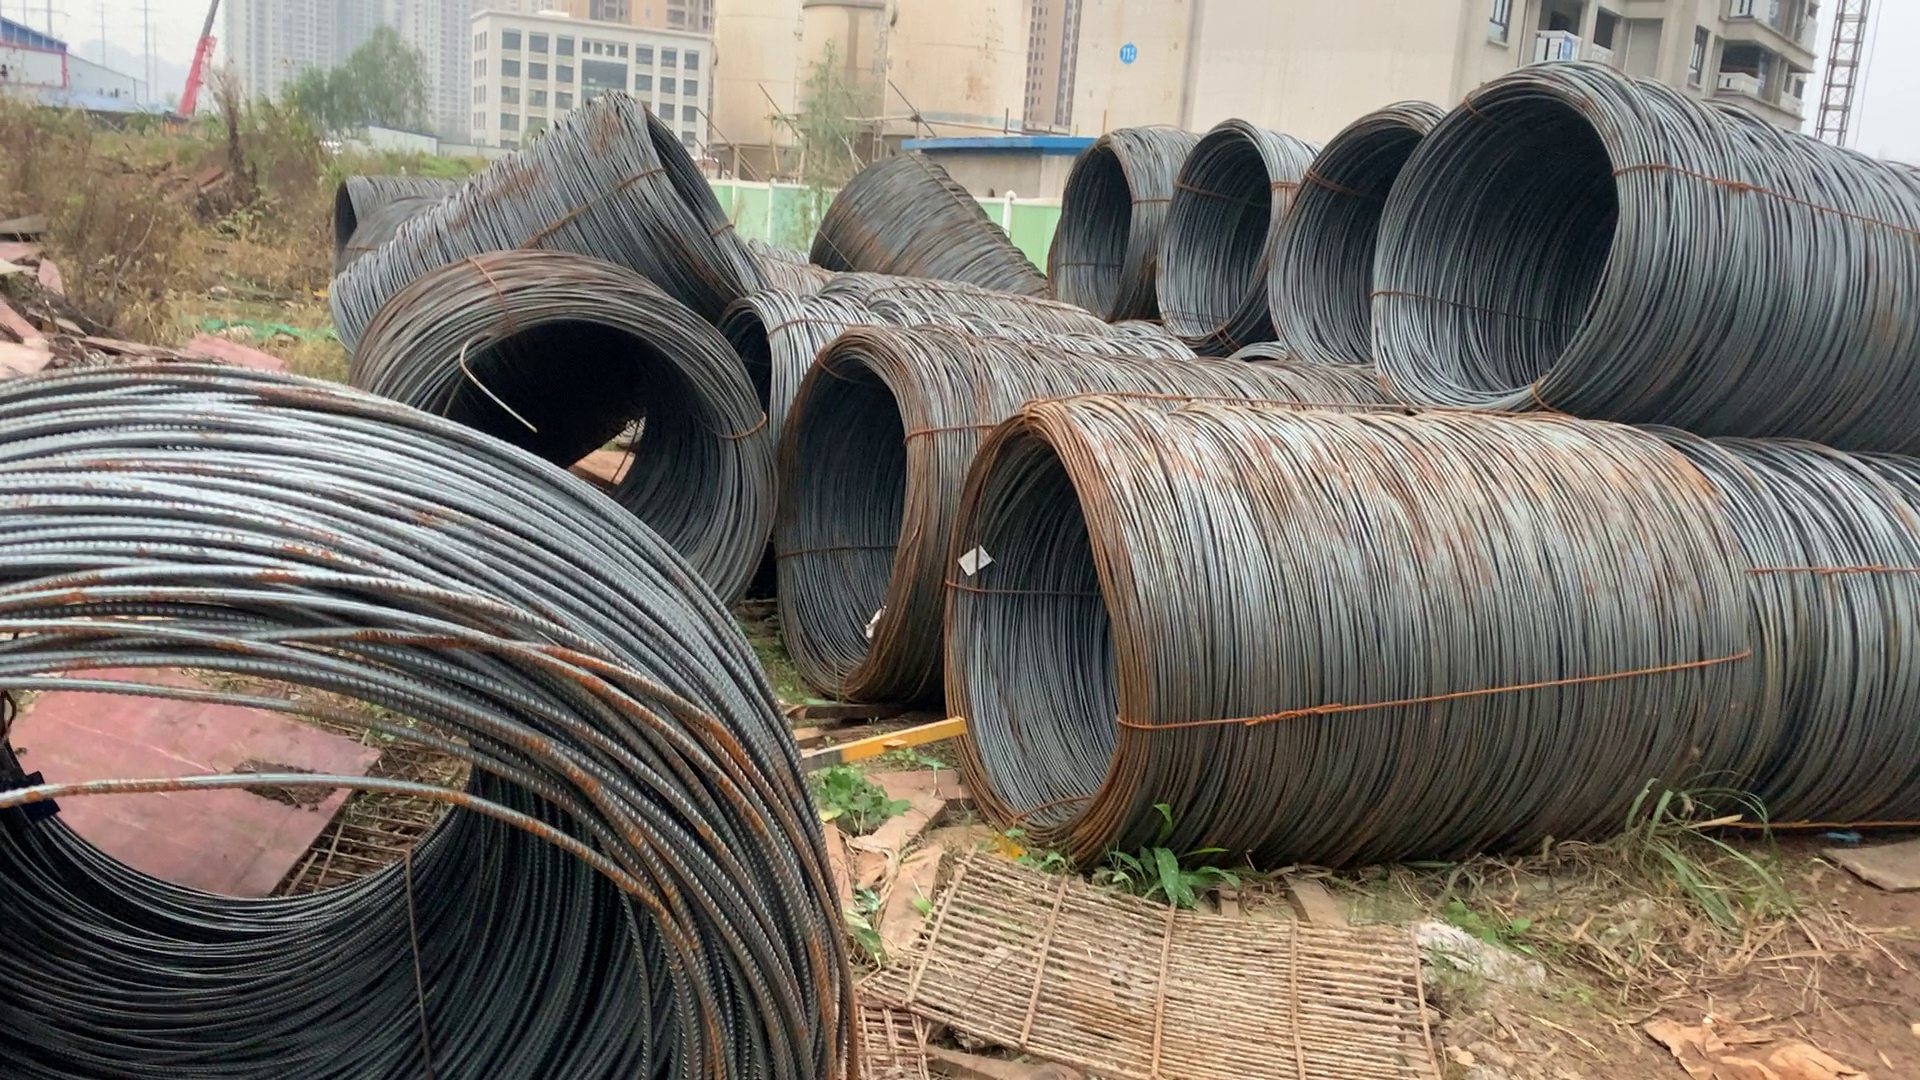coil: (1, 447, 862, 1068), (388, 291, 782, 626), (960, 435, 1146, 874), (1371, 84, 1635, 388), (785, 328, 945, 696), (1288, 102, 1432, 378), (621, 104, 782, 320), (1139, 124, 1265, 345), (1035, 129, 1153, 313), (324, 171, 365, 257)
